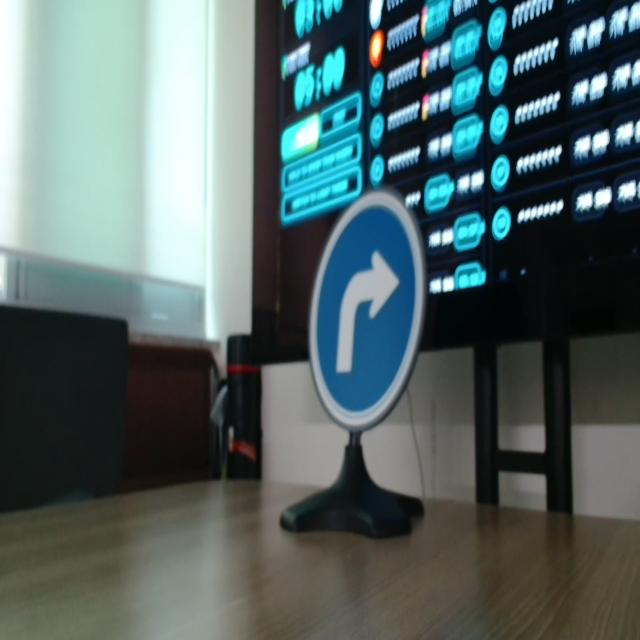right_dierection: (292, 172, 440, 444)
